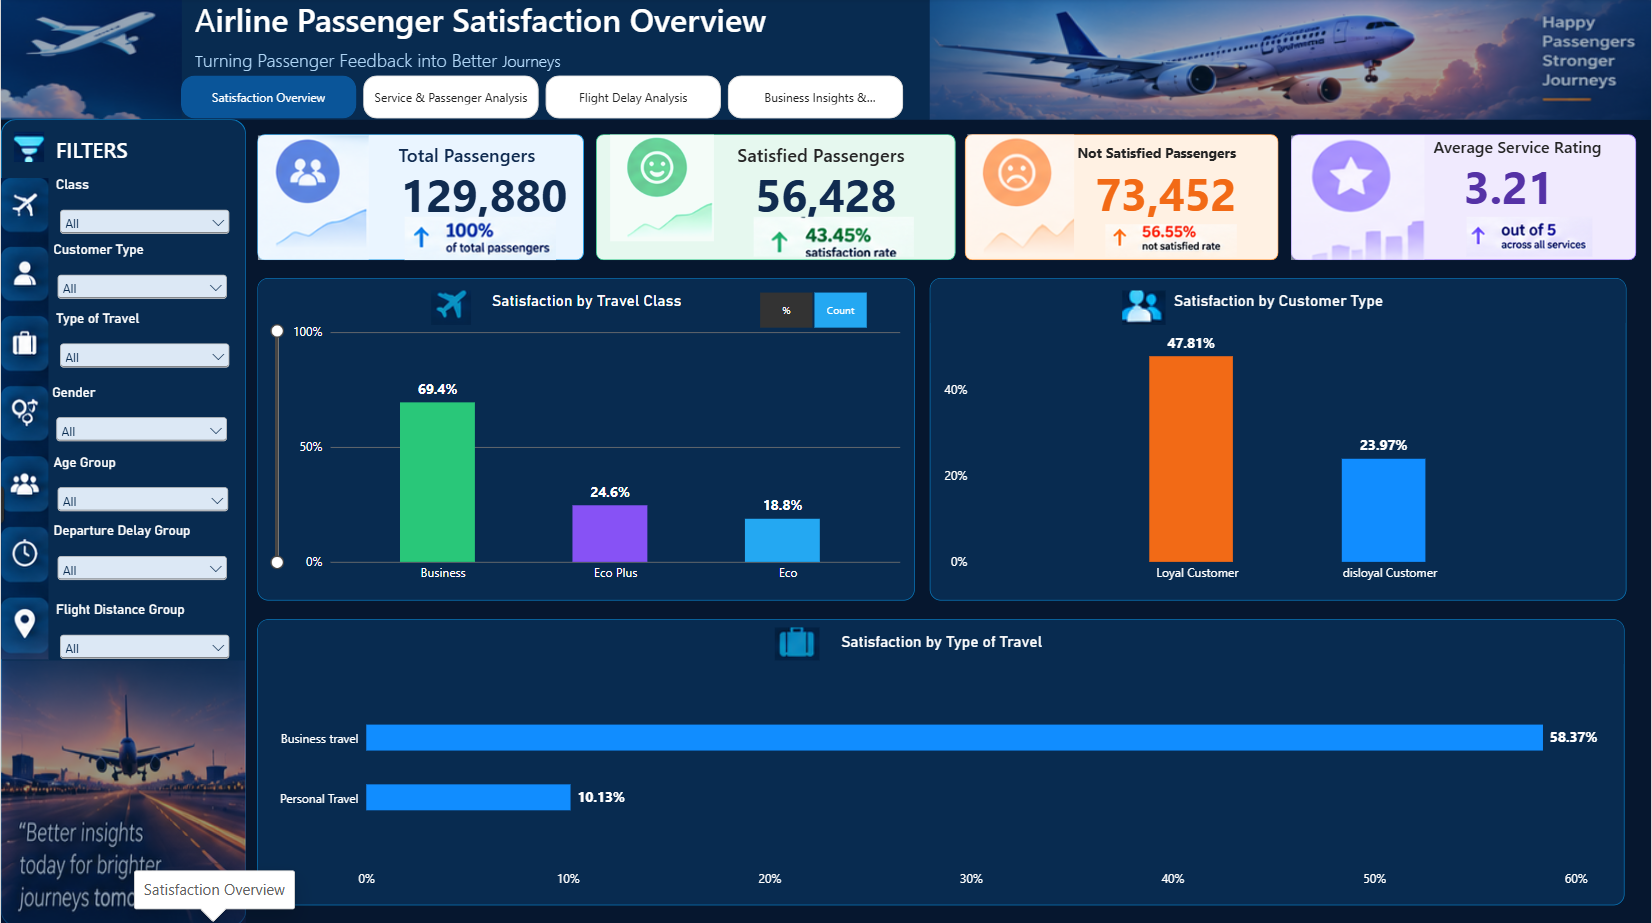

What the dashboard file says about the page in this screenshot:
{"tool":"powerbi","page":{"name":"Satisfaction Overview","canvas":[1920,1080],"ordinal":0},"visuals":[{"type":"shape","box":[0,0,1920,141.7],"z":0},{"type":"textbox","box":[225,0,718.3,56.7],"z":1000},{"type":"textbox","box":[225,56.7,453.3,35],"z":2000},{"type":"image","box":[1080,1.7,840,140],"z":3000},{"type":"image","box":[0,1.7,210,140],"z":4000},{"type":"shape","box":[0,141.7,285,938.3],"z":5000},{"type":"textbox","box":[63.3,160,101.7,43.3],"z":6000},{"type":"slicer","title":"Class","fields":{"Values":["airline_satisfaction_powerbi.Class"]},"box":[63.3,208.3,206.7,68.3],"z":7000},{"type":"slicer","title":"Customer Type","fields":{"Values":["airline_satisfaction_powerbi.Customer Type"]},"box":[61.7,283.3,206.7,80],"z":8000},{"type":"slicer","title":"Type of Travel","fields":{"Values":["airline_satisfaction_powerbi.Type of Travel"]},"box":[63.3,363.3,206.7,80],"z":9000},{"type":"slicer","title":"Gender","fields":{"Values":["airline_satisfaction_powerbi.Gender"]},"box":[60,450,208.3,80],"z":10000},{"type":"slicer","title":"Departure Delay Group","fields":{"Values":["airline_satisfaction_powerbi.Departure Delay Group"]},"box":[61.7,610,206.7,80],"z":11000},{"type":"slicer","title":"Flight Distance Group","fields":{"Values":["airline_satisfaction_powerbi.Flight Distance Group"]},"box":[63.3,701.7,206.7,80],"z":12000},{"type":"shape","box":[298.3,158.3,380,146.7],"z":13000},{"type":"cardVisual","fields":{"Data":["Dax_measures.Total Passengers Display"]},"box":[444.8,190.1,233.7,73.3],"z":14000},{"type":"textbox","box":[461.7,166.7,173.3,41.7],"z":15000},{"type":"shape","box":[691.7,158.3,418.3,146.7],"z":16000},{"type":"shape","box":[1121.7,158.3,365,146.7],"z":17000},{"type":"shape","box":[1500,158.3,401.7,146.7],"z":18000},{"type":"cardVisual","fields":{"Data":["Dax_measures.Satisfied Passengers Display"]},"box":[856.7,190,206.7,73.3],"z":19000},{"type":"textbox","box":[856.7,166.7,206.7,41.7],"z":20000},{"type":"image","box":[703.3,158.3,130,125],"z":21000},{"type":"image","box":[1121.7,158.3,130,143.3],"z":22000},{"type":"cardVisual","fields":{"Data":["Dax_measures.Not Satisfied Passengers Display"]},"box":[1251.7,188.3,206.7,75],"z":23000},{"type":"textbox","box":[1251.7,168.3,206.7,41.7],"z":24000},{"type":"cardVisual","fields":{"Data":["Dax_measures.Average Service Rating"]},"box":[1666.7,183.3,175,71.7],"z":25000},{"type":"image","box":[1251.7,263.3,218.3,38.3],"z":26000},{"type":"image","box":[873.3,255,190,46.7],"z":27000},{"type":"image","box":[298.3,160,130,145],"z":28000},{"type":"image","box":[461.7,255,190,50],"z":29000},{"type":"textbox","box":[1666.7,160,206.7,41.7],"z":30000},{"type":"image","box":[1500,160,155,145],"z":31000},{"type":"image","box":[1666.7,255,223.3,46.7],"z":32000},{"type":"image","box":[0,770,285,310],"z":33000},{"type":"image","box":[0,210,55,560],"z":34000},{"type":"image","box":[10,155,45,35],"z":35000},{"type":"slicer","title":"Age Group","fields":{"Values":["airline_satisfaction_powerbi.Age Group"]},"box":[61.7,530,208.3,80],"z":36000},{"type":"clusteredColumnChart","title":"Satisfaction by Travel Class","fields":{"Category":["airline_satisfaction_powerbi.Class"],"Y":["Label Display.Chart Label Value"]},"box":[298.3,326.2,765,375],"z":37000},{"type":"image","box":[498.8,340.1,48.8,40.1],"z":38000},{"type":"slicer","fields":{"Values":["Label Display.Display"]},"box":[861.6,340.1,164,45.3],"z":39000},{"type":"clusteredColumnChart","title":"Satisfaction by Customer Type","fields":{"Category":["airline_satisfaction_powerbi.Customer Type"],"Y":["Dax_measures.Satisfaction Rate"]},"box":[1079.7,326.2,810,375],"z":40000},{"type":"image","box":[1304.7,340.1,50.6,40.1],"z":41000},{"type":"clusteredBarChart","title":"Satisfaction by Type of Travel","fields":{"Category":["airline_satisfaction_powerbi.Type of Travel"],"Y":["Dax_measures.Satisfaction Rate"]},"box":[298.3,722.1,1590.7,333.1],"z":42000},{"type":"image","box":[900,730.8,51.7,40],"z":43000},{"type":"pageNavigator","box":[209.3,90.7,842.4,50.6],"z":43001}]}

Visuals, with their boxes on the page's 1920x1080 design canvas (x1, y1, x2, y2). These are canvas units, not pixel positions in the 1652x923 screenshot, which may show the page scaled, cropped or inside an application window:
shape: [0,0,1920,142]
textbox: [225,0,943,57]
textbox: [225,57,678,92]
image: [1080,2,1920,142]
image: [0,2,210,142]
shape: [0,142,285,1080]
textbox: [63,160,165,203]
"Class" slicer: [63,208,270,277]
"Customer Type" slicer: [62,283,268,363]
"Type of Travel" slicer: [63,363,270,443]
"Gender" slicer: [60,450,268,530]
"Departure Delay Group" slicer: [62,610,268,690]
"Flight Distance Group" slicer: [63,702,270,782]
shape: [298,158,678,305]
cardVisual - Dax_measures.Total Passengers Display: [445,190,678,263]
textbox: [462,167,635,208]
shape: [692,158,1110,305]
shape: [1122,158,1487,305]
shape: [1500,158,1902,305]
cardVisual - Dax_measures.Satisfied Passengers Display: [857,190,1063,263]
textbox: [857,167,1063,208]
image: [703,158,833,283]
image: [1122,158,1252,302]
cardVisual - Dax_measures.Not Satisfied Passengers Display: [1252,188,1458,263]
textbox: [1252,168,1458,210]
cardVisual - Dax_measures.Average Service Rating: [1667,183,1842,255]
image: [1252,263,1470,302]
image: [873,255,1063,302]
image: [298,160,428,305]
image: [462,255,652,305]
textbox: [1667,160,1873,202]
image: [1500,160,1655,305]
image: [1667,255,1890,302]
image: [0,770,285,1080]
image: [0,210,55,770]
image: [10,155,55,190]
"Age Group" slicer: [62,530,270,610]
"Satisfaction by Travel Class" clusteredColumnChart: [298,326,1063,701]
image: [499,340,548,380]
slicer - Label Display.Display: [862,340,1026,385]
"Satisfaction by Customer Type" clusteredColumnChart: [1080,326,1890,701]
image: [1305,340,1355,380]
"Satisfaction by Type of Travel" clusteredBarChart: [298,722,1889,1055]
image: [900,731,952,771]
pageNavigator: [209,91,1052,141]
